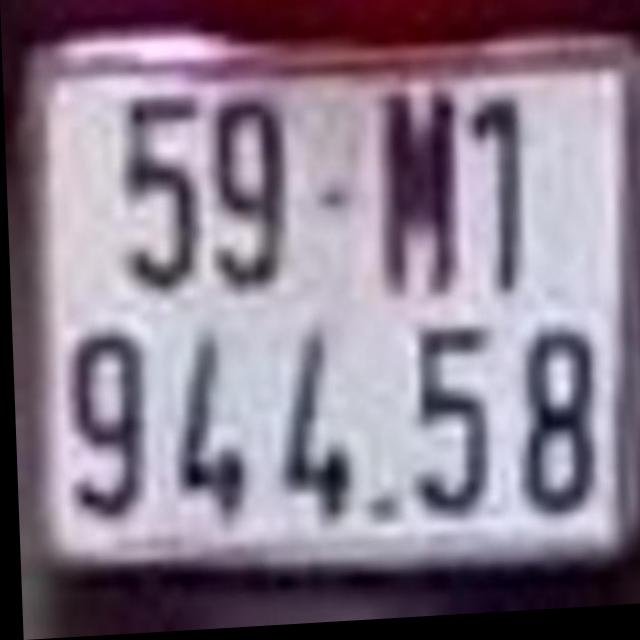1: (468, 107, 517, 298)
4: (273, 333, 348, 526), (177, 349, 242, 516)
5: (116, 100, 199, 295), (411, 329, 487, 512)
8: (518, 333, 583, 515)
9: (210, 101, 284, 294), (71, 338, 143, 517)
M: (378, 96, 458, 300)
